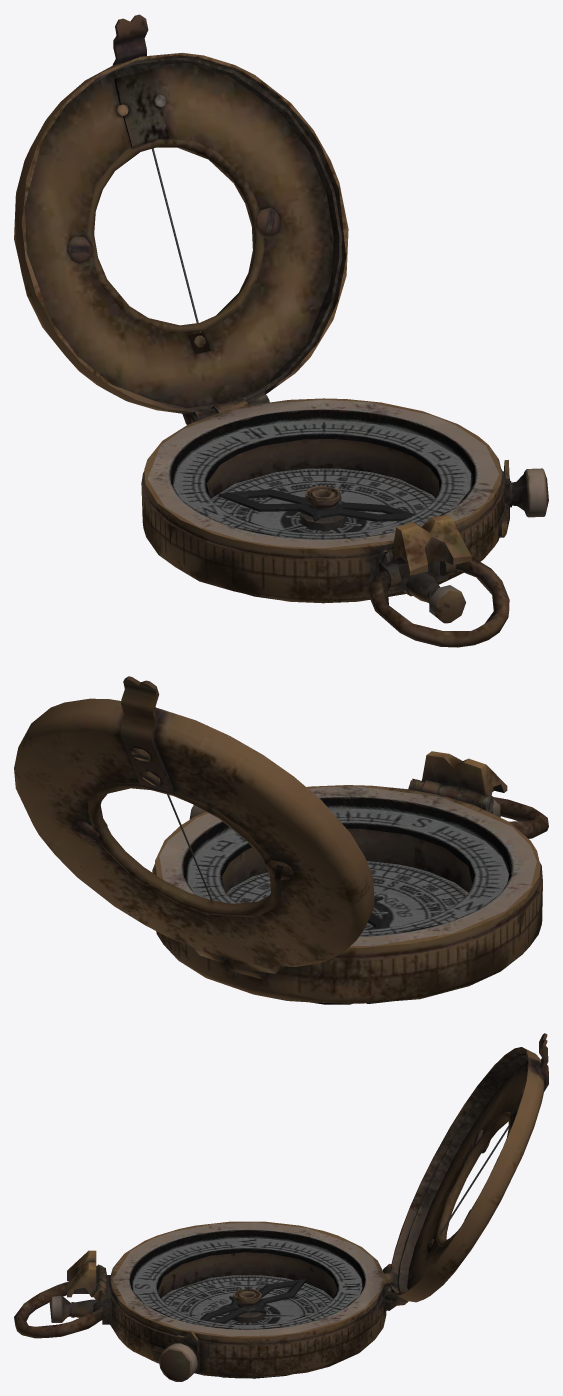
Rendered from seadogs_compass.glb.
3 views of the same model, one above another, from view 1: azimuth 30°, elevation 25°; view 2: azimuth 150°, elevation 25°; view 3: azimuth 270°, elevation 25° (orthographic). The views are drawn at different scales.
Visible parts, largest first — view 1: seadogs_compass; view 2: seadogs_compass; view 3: seadogs_compass.
Boxes of the visible parts, left/top/right/bottom form: seadogs_compass: left=14, top=14, right=548, bottom=647; seadogs_compass: left=14, top=676, right=548, bottom=1004; seadogs_compass: left=14, top=1033, right=548, bottom=1381.
Bounding box in the file's own units: 0.0811 × 0.0866 × 0.1439.
1 material, 1 textured.
